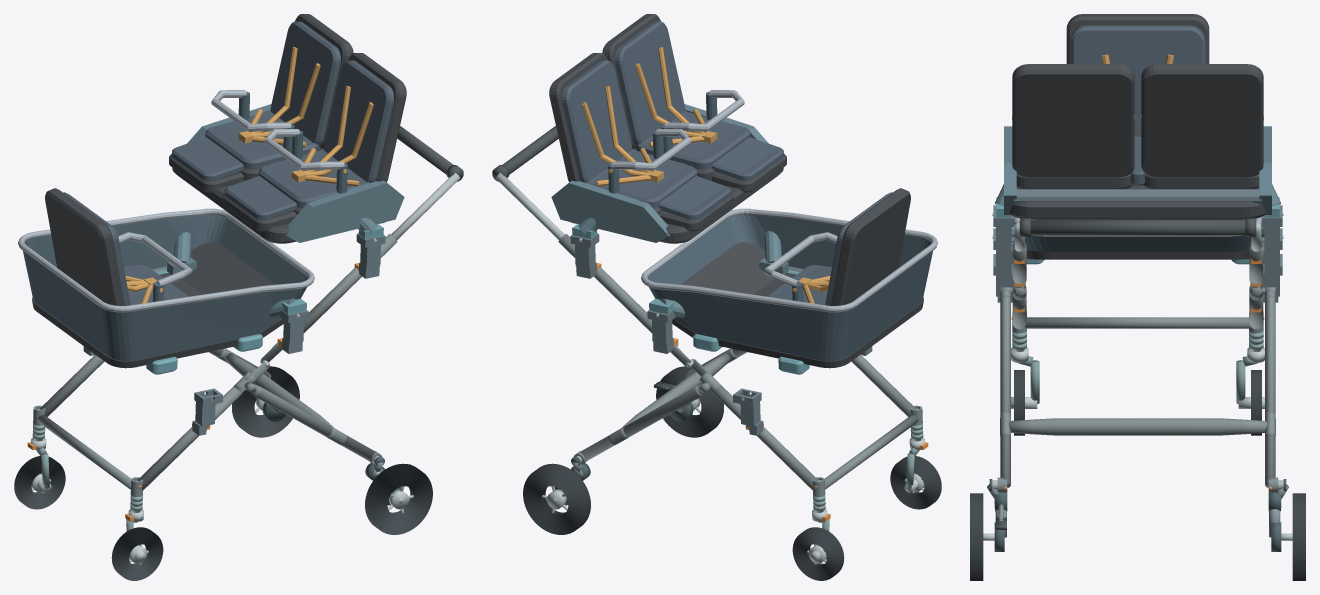
File: D29_w650_state1_wheel_S.glb
3 views of the same model, side by side, from view 1: azimuth 30°, elevation 25°; view 2: azimuth 150°, elevation 25°; view 3: azimuth 270°, elevation 25° (orthographic). The views are drawn at different scales.
Visible parts, largest first — view 1: D29_Lower, D29_Upper, RL_tire.008, RR_tire.008, FL_tire.008, FR_tire.008, V46_rear_leg_-1.009, main_lower_-1.009, D29_Lower_Mount_M, front_fixed_round_tube.008, main_upper_-1.009, V46_rearbar.009 (+6 smaller); view 2: D29_Lower, D29_Upper, RR_tire.008, FR_tire.008, RL_tire.008, FL_tire.008, V46_rear_leg_1.009, main_lower_1.009, D29_Lower_Mount_M, front_fixed_round_tube.008, main_upper_1.009, V46_rearbar.009 (+6 smaller); view 3: D29_Upper, D29_Lower, V46_rearbar.009, round_handle.008, front_fixed_round_tube.008, V46_rear_leg_1.009, V46_rear_leg_-1.009, RL_tire.008, RR_tire.008, Universal_Cabin_Receiver_H_1, Universal_Cabin_Receiver_H_-1, FL_tire.008 (+6 smaller).
Part boxes in pixels (x1,y1,x2,y2): D29_Lower: (18,188,314,374); D29_Upper: (169,14,406,243); RL_tire.008: (365,463,432,534); RR_tire.008: (232,366,299,437); FL_tire.008: (111,527,163,580); FR_tire.008: (14,456,65,509); V46_rear_leg_-1.009: (252,386,375,461); main_lower_-1.009: (137,386,244,490); D29_Lower_Mount_M: (167,232,306,318); front_fixed_round_tube.008: (37,415,131,489); main_upper_-1.009: (282,234,397,339); V46_rearbar.009: (225,353,334,428); D29_Lower: (641,188,937,374); D29_Upper: (549,14,786,243); RR_tire.008: (523,463,590,534); FR_tire.008: (792,527,844,580); RL_tire.008: (656,366,723,437); FL_tire.008: (890,456,941,509); V46_rear_leg_1.009: (580,386,703,461); main_lower_1.009: (711,386,818,490); D29_Lower_Mount_M: (649,231,788,318); front_fixed_round_tube.008: (824,415,918,489); main_upper_1.009: (558,234,673,339); V46_rearbar.009: (621,353,730,428); D29_Upper: (1004,64,1271,219); D29_Lower: (1014,14,1261,264); V46_rearbar.009: (1008,418,1267,435); round_handle.008: (1019,220,1256,234); front_fixed_round_tube.008: (1025,317,1250,328); V46_rear_leg_1.009: (1265,295,1275,487); V46_rear_leg_-1.009: (1000,295,1010,487); RL_tire.008: (970,493,983,580); RR_tire.008: (1292,493,1305,580); Universal_Cabin_Receiver_H_1: (1261,205,1282,264); Universal_Cabin_Receiver_H_-1: (993,205,1014,264); FL_tire.008: (1014,370,1024,435).
Size of the model in its own units: 1.13 by 1.32 by 0.766.
